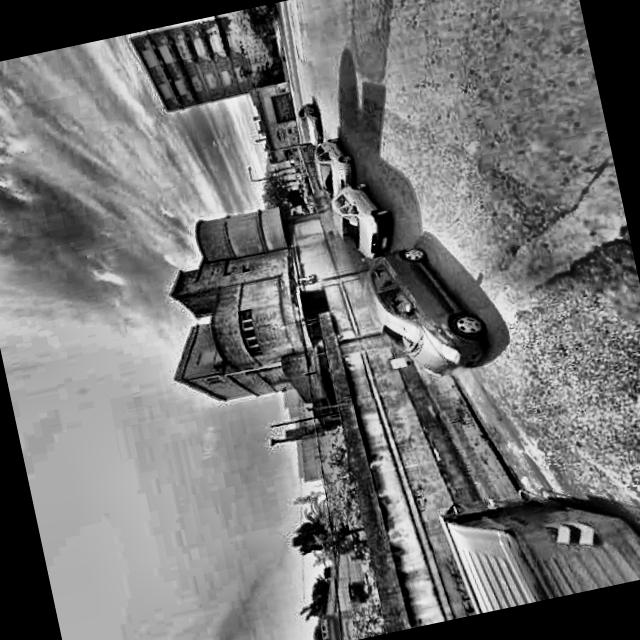Dustbin: (414, 428, 640, 619)
